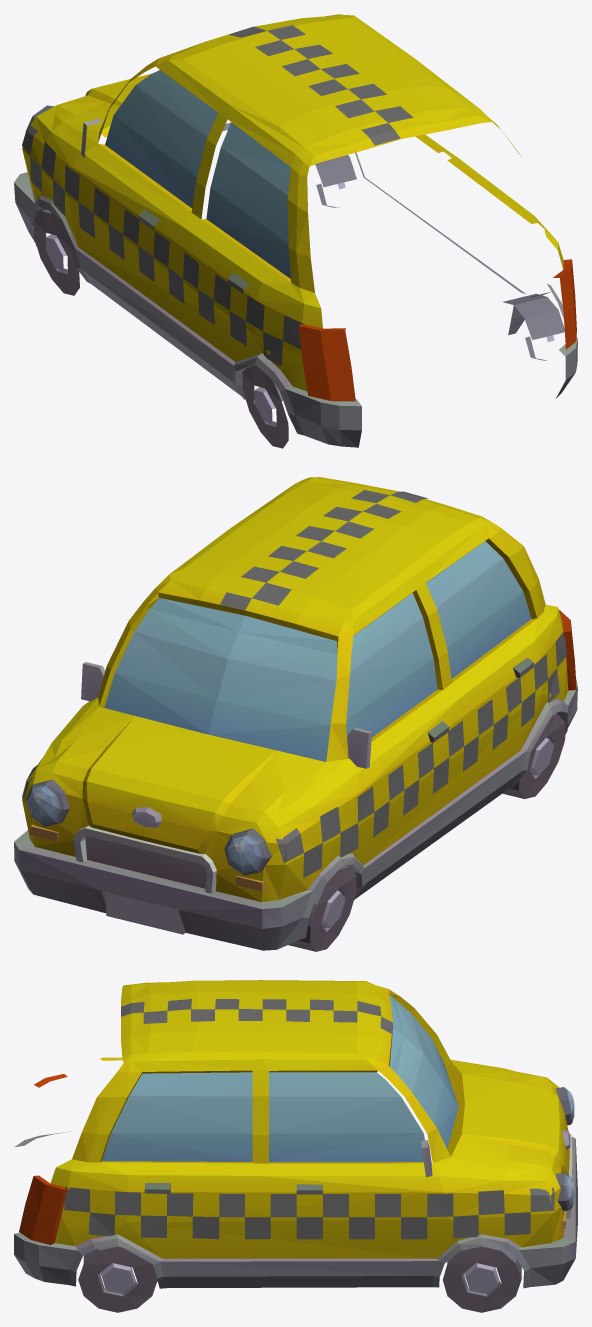
File: city_single2_car03.glb
The picture shows the model from 3 angles, top to bottom: view 1: azimuth 30°, elevation 25°; view 2: azimuth 150°, elevation 25°; view 3: azimuth 270°, elevation 25°; orthographic projection. The views are drawn at different scales.
Visible parts, largest first — view 1: city_single2_car03; view 2: city_single2_car03; view 3: city_single2_car03.
Boxes of the visible parts, box(x1,y1,x2,y2) form: city_single2_car03: box(14, 14, 577, 448); city_single2_car03: box(14, 477, 577, 951); city_single2_car03: box(14, 980, 577, 1312).
Bounding box in the file's own units: 0.9628 × 0.8795 × 1.81.
